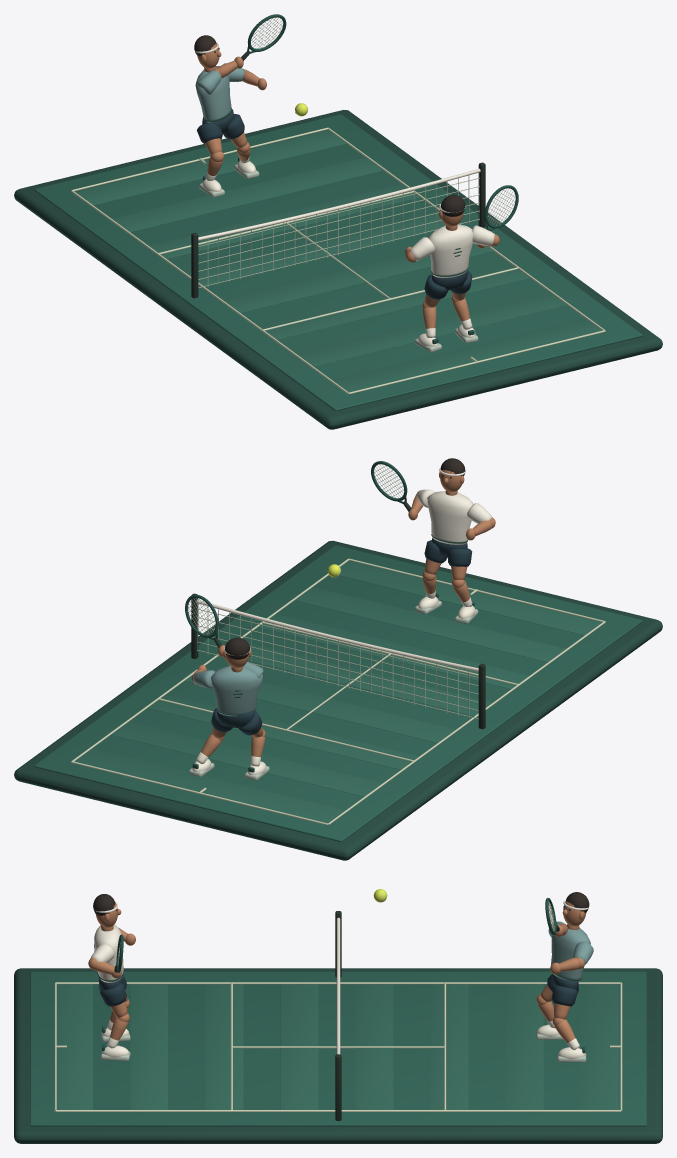
Rendered from tennis-return.glb.
3 renders of one model, top to bottom at view 1: azimuth 30°, elevation 25°; view 2: azimuth 150°, elevation 25°; view 3: azimuth 270°, elevation 25°, orthographic. The views are drawn at different scales.
Visible parts, largest first — view 1: Court playing surface, Court / Court stripe, Court base, Court / Court lines, Court / Strings, Athlete torso / Jersey, Net tape, Far Tailored jersey, Court / Grip; view 2: Court playing surface, Court / Court stripe, Court base, Court / Court lines, Court / Strings, Athlete torso / Jersey, Far Tailored jersey, Net tape, Court / Grip; view 3: Court playing surface, Court / Court stripe, Court base, Court / Court lines, Far Tailored jersey, Left shorts leg (×2), Athlete torso / Jersey, Court / Grip, Net tape, Far Athlete torso / Skin.
Boxes of the visible parts, left/top/right/bottom form: Court playing surface: left=34, top=114, right=642, bottom=411; Court / Court stripe: left=75, top=130, right=602, bottom=393; Court base: left=14, top=110, right=662, bottom=429; Court / Court lines: left=71, top=127, right=605, bottom=394; Court / Strings: left=198, top=172, right=479, bottom=287; Athlete torso / Jersey: left=428, top=203, right=473, bottom=277; Net tape: left=198, top=168, right=480, bottom=240; Far Tailored jersey: left=195, top=66, right=231, bottom=122; Court / Grip: left=191, top=162, right=485, bottom=298; Court playing surface: left=34, top=545, right=642, bottom=841; Court / Court stripe: left=74, top=560, right=602, bottom=823; Court base: left=14, top=540, right=662, bottom=860; Court / Court lines: left=71, top=558, right=605, bottom=825; Court / Strings: left=197, top=604, right=478, bottom=718; Athlete torso / Jersey: left=427, top=468, right=473, bottom=544; Far Tailored jersey: left=211, top=666, right=262, bottom=716; Net tape: left=196, top=599, right=478, bottom=671; Court / Grip: left=191, top=593, right=485, bottom=729; Court playing surface: left=30, top=971, right=646, bottom=1126; Court / Court stripe: left=55, top=984, right=618, bottom=1111; Court base: left=14, top=968, right=662, bottom=1143; Court / Court lines: left=54, top=982, right=622, bottom=1111; Far Tailored jersey: left=551, top=927, right=590, bottom=981; Left shorts leg (×2): left=100, top=983, right=577, bottom=1006; Athlete torso / Jersey: left=94, top=902, right=123, bottom=982; Court / Grip: left=335, top=911, right=341, bottom=1120; Net tape: left=336, top=917, right=340, bottom=1054; Far Athlete torso / Skin: left=562, top=901, right=586, bottom=929.
Size of the model in its own units: 4.28 by 2.16 by 7.
